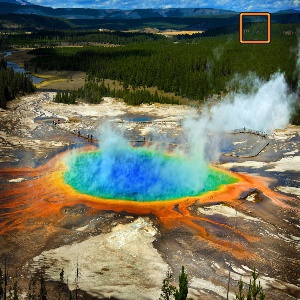square: (238, 11, 272, 44)
